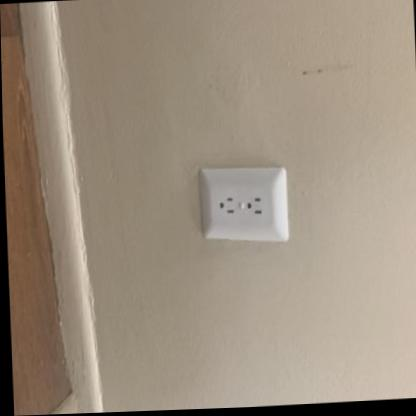OUTLET: (196, 160, 290, 247)
